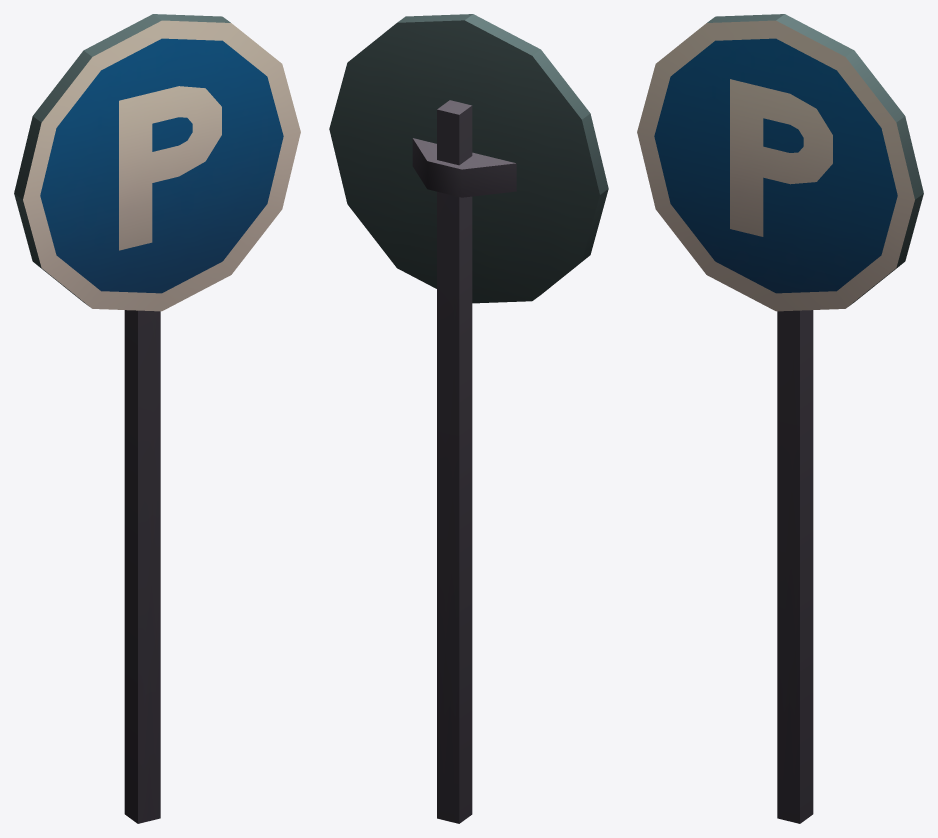
File: Streetsign_2J.fbx
3 views of the same model, side by side, from view 1: azimuth 30°, elevation 25°; view 2: azimuth 150°, elevation 25°; view 3: azimuth 330°, elevation 25° (orthographic). The views are drawn at different scales.
Visible parts, largest first — view 1: Streetsign_2J; view 2: Streetsign_2J; view 3: Streetsign_2J.
Boxes of the visible parts, x1=… form: Streetsign_2J: x1=14, y1=14, x2=300, y2=823; Streetsign_2J: x1=329, y1=14, x2=608, y2=823; Streetsign_2J: x1=637, y1=14, x2=923, y2=823.
Size of the model in its own units: 108 by 300 by 20.83.
